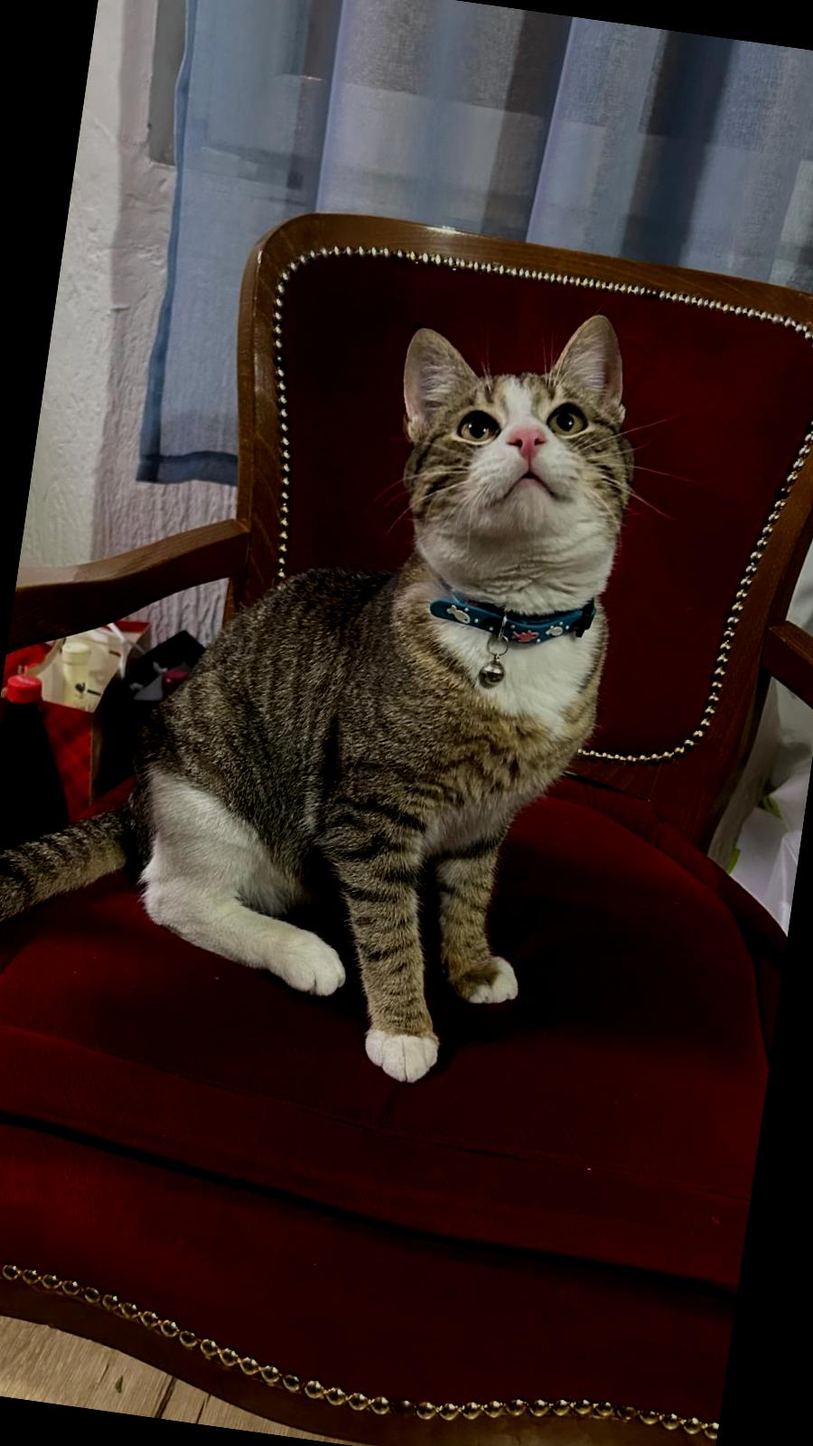macka: (0, 237, 663, 1103)
